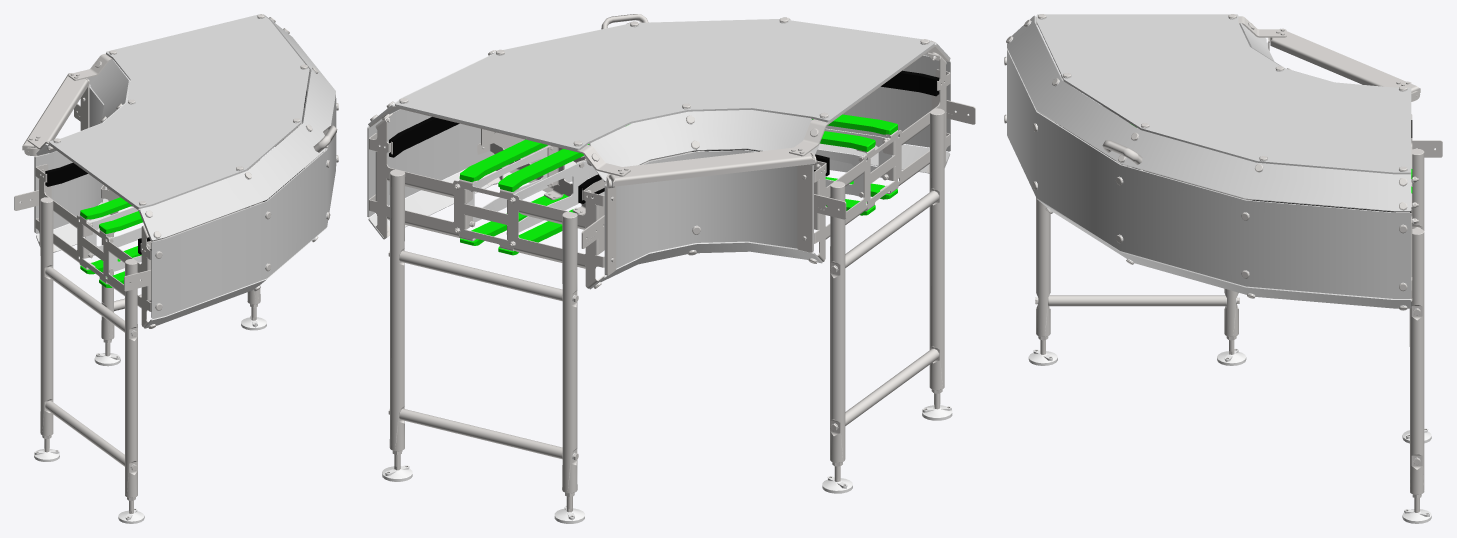
3 views of the same model, side by side, from view 1: azimuth 30°, elevation 25°; view 2: azimuth 150°, elevation 25°; view 3: azimuth 270°, elevation 25° (orthographic). The views are drawn at different scales.
Visible parts, largest first — view 1: glass, base; view 2: glass, base; view 3: glass, base.
Boxes of the visible parts, bbox=[...] form: glass: bbox=[35, 14, 336, 328]; base: bbox=[14, 14, 338, 523]; glass: bbox=[367, 19, 950, 289]; base: bbox=[369, 14, 975, 523]; glass: bbox=[1007, 14, 1411, 308]; base: bbox=[1004, 14, 1442, 523].
Bounding box in the file's own units: 1.2 × 1.05 × 1.2.
1 material, 1 textured.
